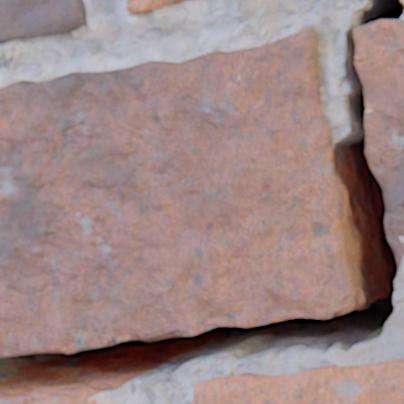brick: (0, 31, 355, 355), (354, 21, 403, 256), (192, 358, 403, 403), (0, 0, 87, 43), (127, 0, 197, 15), (36, 391, 104, 403)
crack: (0, 0, 403, 403)
